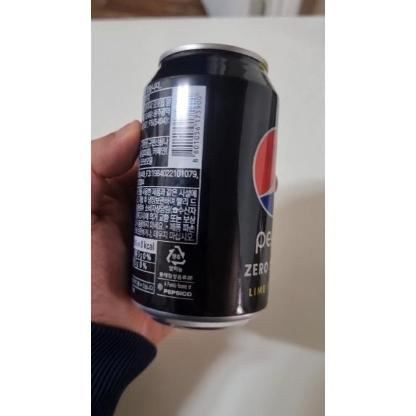Can: (129, 44, 279, 330)
